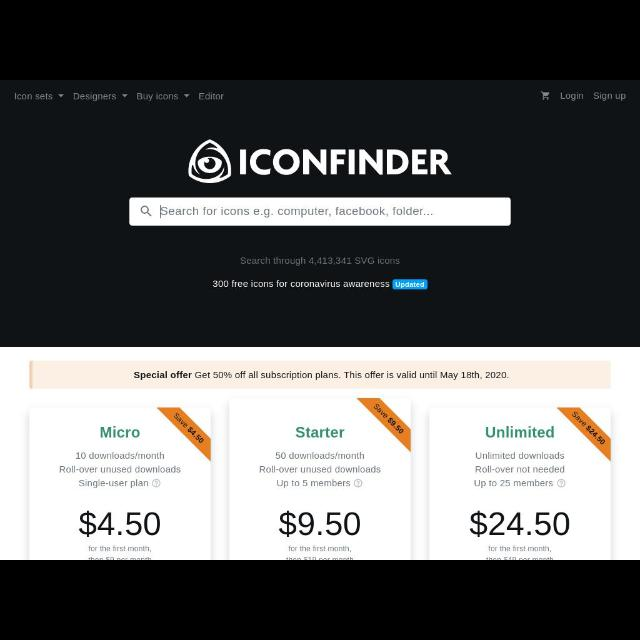icon: (188, 139, 232, 183), (140, 206, 152, 216), (540, 90, 550, 100), (557, 479, 565, 487), (152, 480, 160, 488), (184, 94, 190, 98), (122, 94, 128, 98), (58, 94, 64, 98)
input: (130, 198, 510, 226)
spinner: (74, 92, 128, 101), (136, 92, 190, 101), (14, 92, 64, 100)
text: (240, 150, 452, 174), (134, 372, 508, 381), (162, 206, 432, 218), (469, 511, 568, 537), (278, 511, 359, 537), (79, 511, 159, 537), (212, 280, 390, 288), (240, 258, 400, 266), (260, 465, 380, 473), (486, 426, 554, 438), (60, 467, 180, 473), (276, 451, 364, 459), (476, 452, 564, 460), (276, 479, 350, 488), (474, 480, 552, 488), (80, 479, 148, 488), (476, 466, 564, 472), (76, 452, 164, 458), (288, 545, 352, 553), (89, 545, 151, 553), (296, 428, 344, 438), (101, 427, 139, 438), (488, 546, 552, 552), (74, 92, 116, 101), (136, 92, 178, 101), (15, 92, 53, 100), (593, 92, 625, 101), (200, 92, 224, 100), (560, 92, 584, 100), (396, 282, 424, 288)
textbutton: (393, 279, 427, 289)
